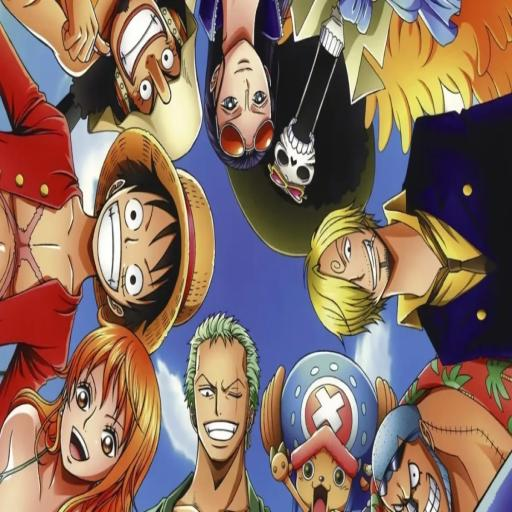Luffy: (0, 38, 222, 330)
Nami: (0, 318, 163, 512)
NicoRobin: (198, 0, 284, 179)
Usopp: (0, 0, 211, 161)
Zoro: (181, 336, 269, 512)
sanji: (310, 113, 512, 364)
